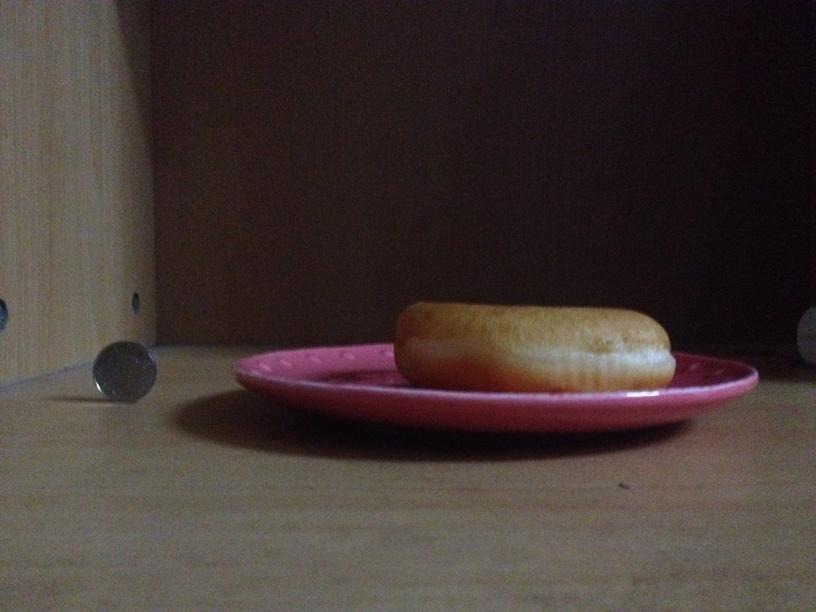coin: (92, 342, 156, 402)
doughnut: (390, 300, 674, 393)
